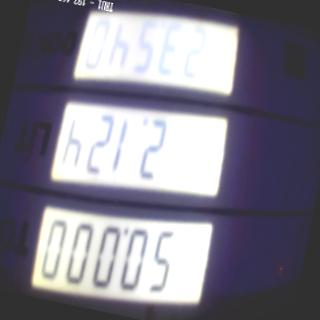screen: (17, 0, 263, 320)
